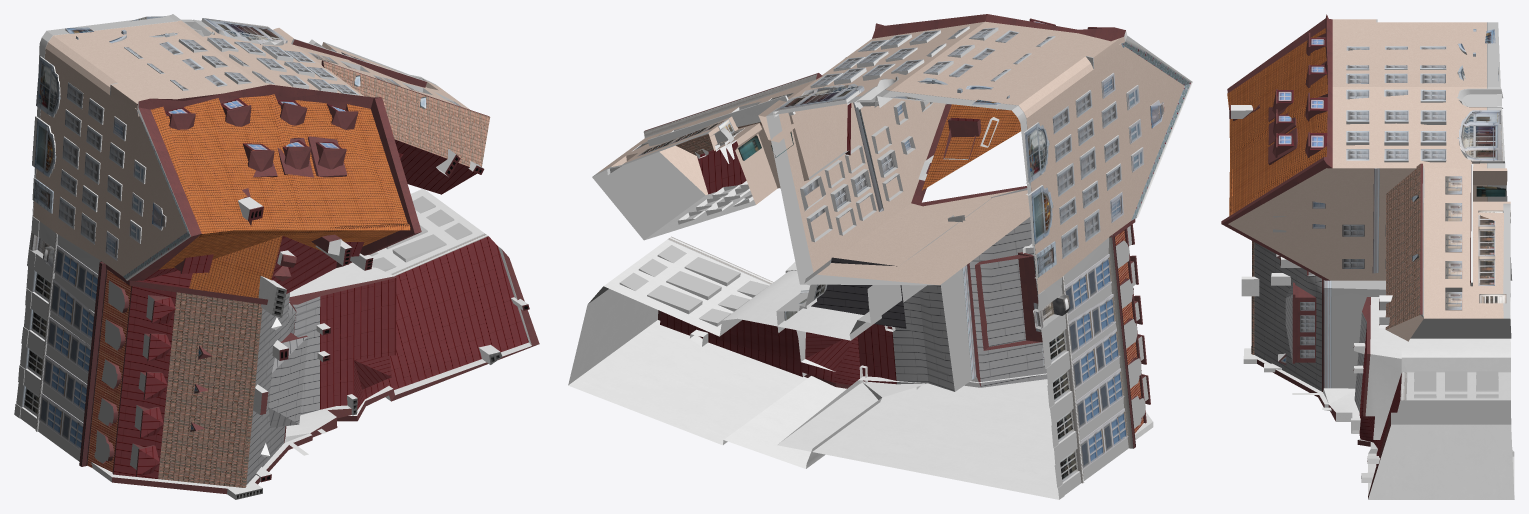
Rendered from Rataskaevu_1-origo.obj.
3 views of the same model, side by side, from view 1: azimuth 30°, elevation 25°; view 2: azimuth 150°, elevation 25°; view 3: azimuth 270°, elevation 25° (orthographic). The views are drawn at different scales.
Parts seen in each view (by area): view 1: Rataskaevu_1; view 2: Rataskaevu_1; view 3: Rataskaevu_1.
Part boxes in pixels (left/top/right/bottom): Rataskaevu_1: left=14, top=14, right=539, bottom=499; Rataskaevu_1: left=568, top=14, right=1192, bottom=499; Rataskaevu_1: left=1221, top=14, right=1514, bottom=499.
Bounding box in the file's own units: 44.81 × 37 × 29.17.
